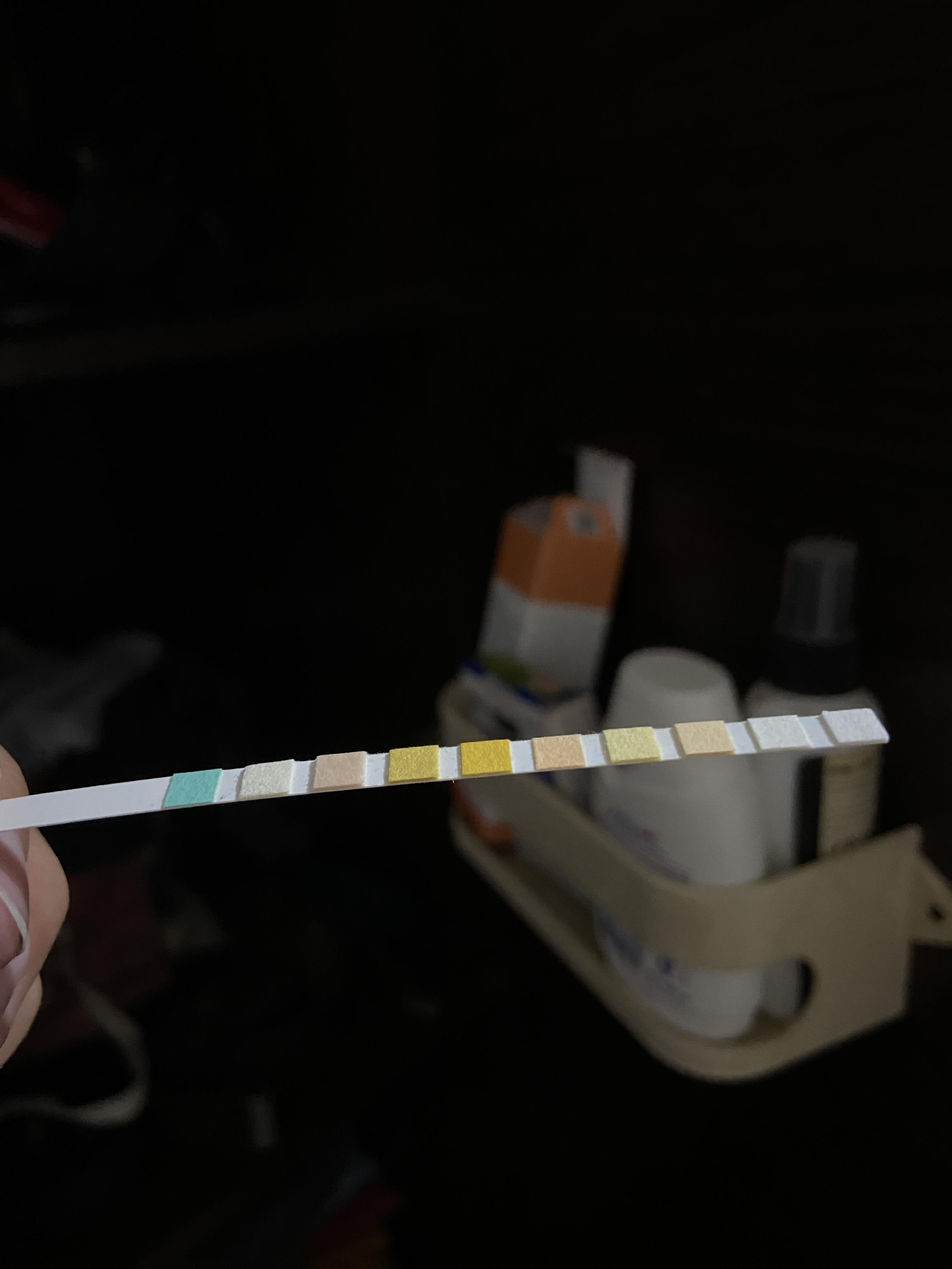Bilirubin: (246, 767, 289, 791)
Blood: (462, 744, 509, 771)
Glucose: (173, 774, 214, 801)
Ketone: (318, 756, 363, 785)
Leukocytes: (837, 711, 870, 738)
Nitrite: (759, 718, 796, 747)
Protein: (612, 730, 652, 759)
SpGravity: (390, 750, 438, 778)
Urobilinogen: (687, 723, 722, 751)
pH: (535, 739, 580, 767)
strip: (0, 709, 885, 830)
